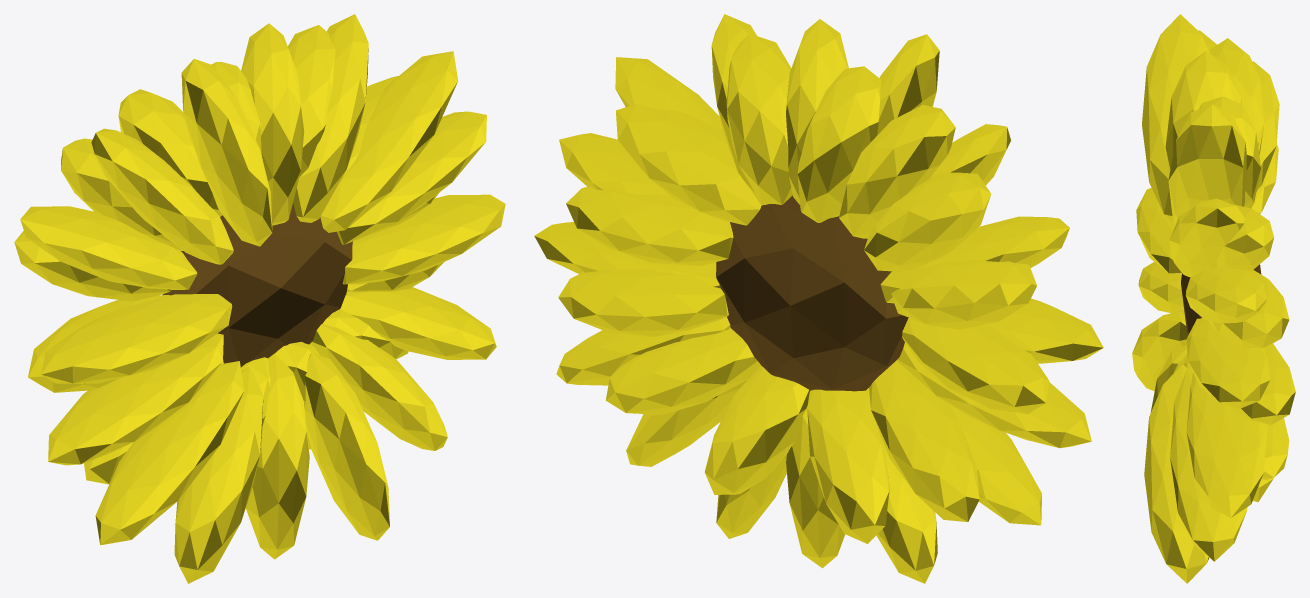
Rendered from Sunflower.obj.
3 renders of one model, left to right at view 1: azimuth 30°, elevation 25°; view 2: azimuth 150°, elevation 25°; view 3: azimuth 270°, elevation 25°, orthographic. The views are drawn at different scales.
Visible parts, largest first — view 1: Sunflower; view 2: Sunflower; view 3: Sunflower.
Part boxes in pixels (bbox=[...]): Sunflower: bbox=[14, 14, 505, 583]; Sunflower: bbox=[534, 14, 1103, 583]; Sunflower: bbox=[1132, 14, 1295, 583].
Size of the model in its own units: 5.26 by 5.3 by 1.61.
